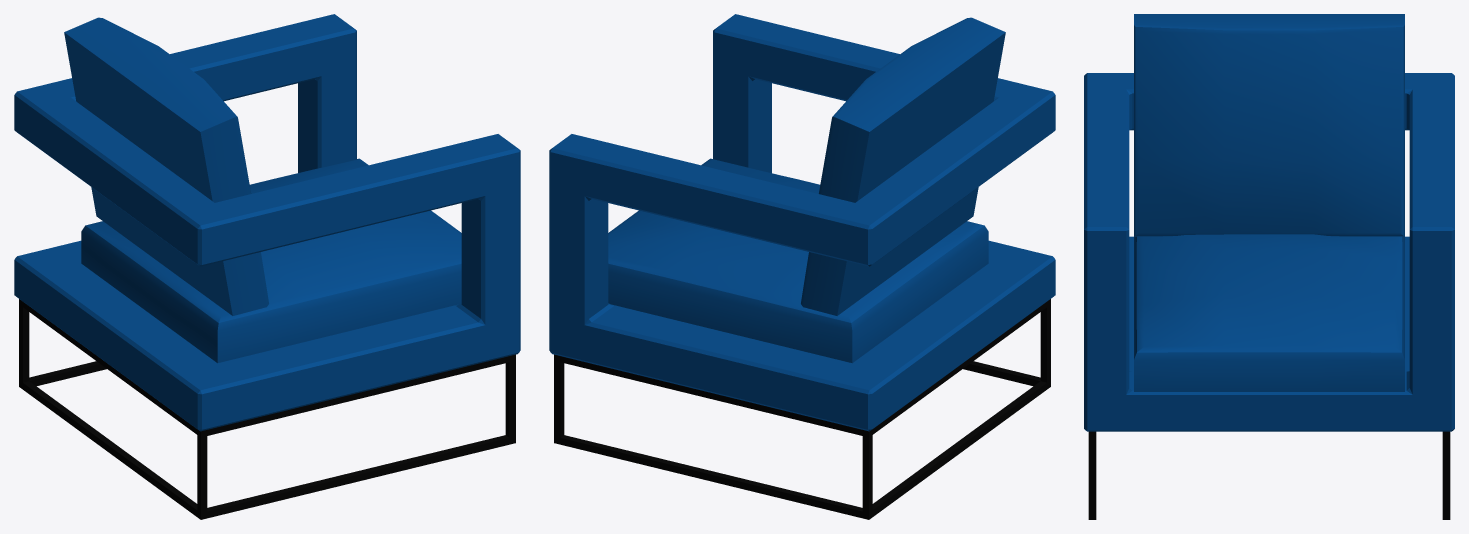
Rendered from Chair 1.glb.
3 renders of one model, left to right at view 1: azimuth 30°, elevation 25°; view 2: azimuth 150°, elevation 25°; view 3: azimuth 270°, elevation 25°, orthographic.
Visible parts, largest first — view 1: Chair 1; view 2: Chair 1; view 3: Chair 1.
Part boxes in pixels (bbox=[...]): Chair 1: bbox=[14, 14, 520, 519]; Chair 1: bbox=[549, 14, 1055, 519]; Chair 1: bbox=[1084, 14, 1454, 519].
Size of what is drawn, in the model's own units: 1.25 by 1.38 by 1.25.
Materials: 1 (1 with a texture image).
